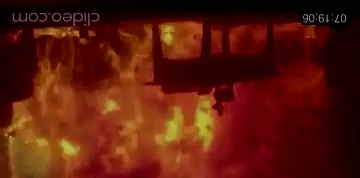fire: (0, 26, 342, 177)
